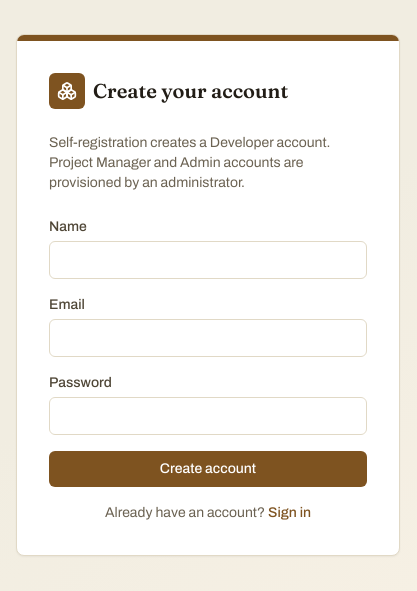
Test case: RegisterPage › shows a 409 duplicate-email error from the API
Type "Dev One" into the field labelled "Name".
click(208, 260); type("Dev One")  # box [49, 241, 367, 279]
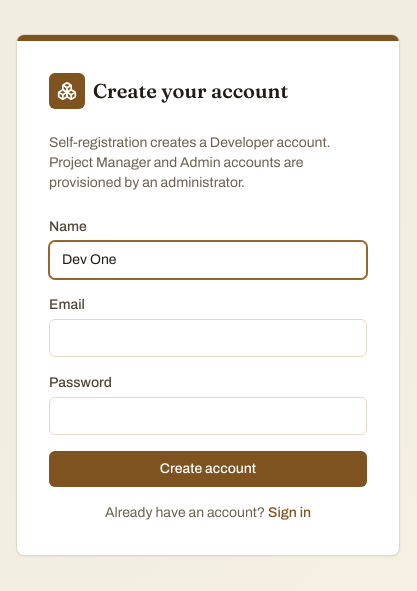
Type "dev@example.com" into the field labelled "Email".
click(208, 338); type("dev@example.com")  # box [49, 319, 367, 357]
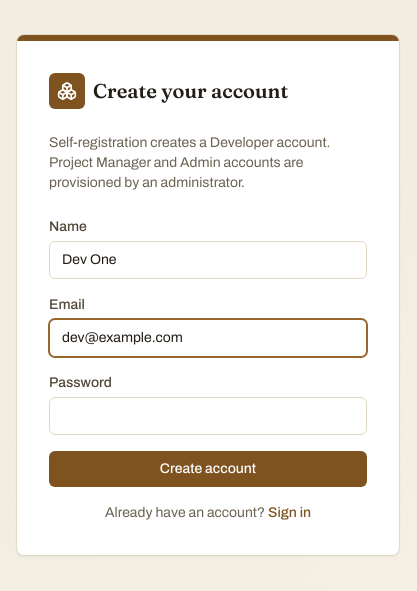
Type "Password123!" into the password field labelled "Password".
click(208, 416); type("Password123!")  # box [49, 397, 367, 435]
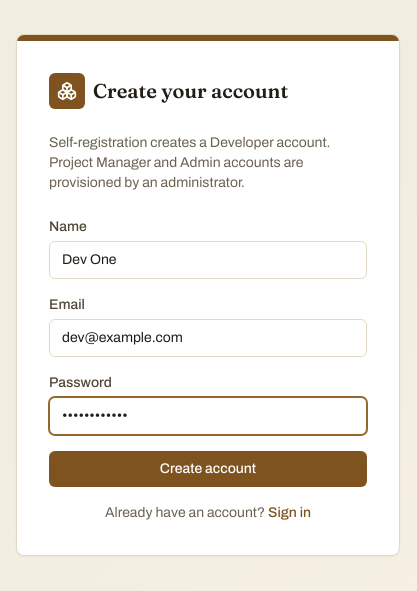
Click the button "Create account".
click(208, 469)  # box [49, 451, 367, 487]
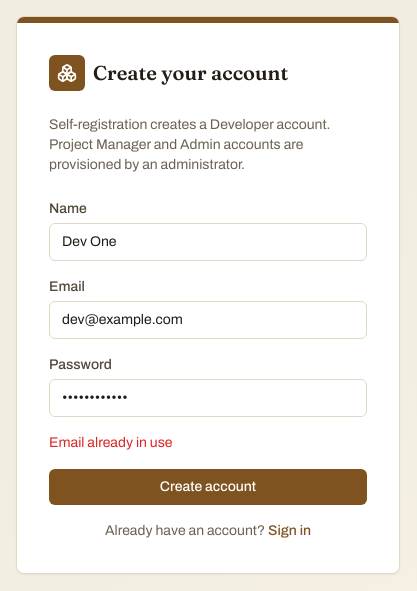
Now the message reads "Email already in use", box [49, 435, 172, 450]
